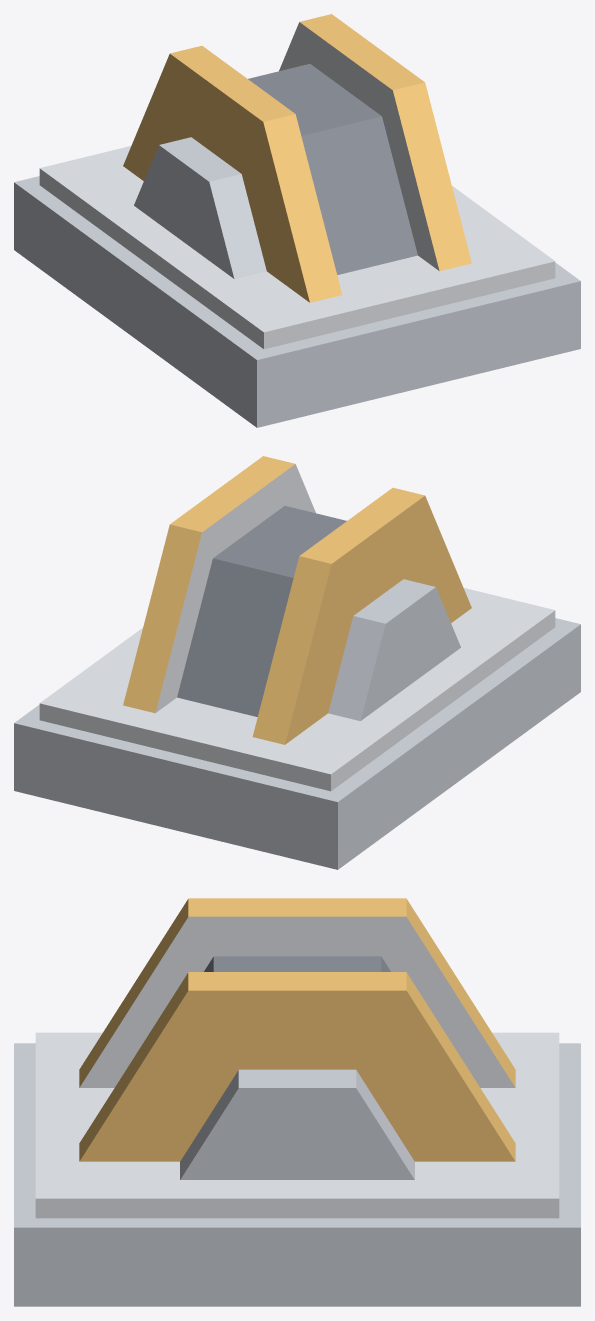
File: machine_generatorLarge.glb
3 renders of one model, top to bottom at view 1: azimuth 30°, elevation 25°; view 2: azimuth 150°, elevation 25°; view 3: azimuth 270°, elevation 25°, orthographic. The views are drawn at different scales.
Visible parts, largest first — view 1: machine_generatorLarge; view 2: machine_generatorLarge; view 3: machine_generatorLarge.
Part boxes in pixels (x1=…): machine_generatorLarge: x1=14, y1=14, x2=580, y2=427; machine_generatorLarge: x1=14, y1=456, x2=580, y2=869; machine_generatorLarge: x1=14, y1=898, x2=580, y2=1306.
Bounding box in the file's own units: 1 × 0.683 × 1.3.
